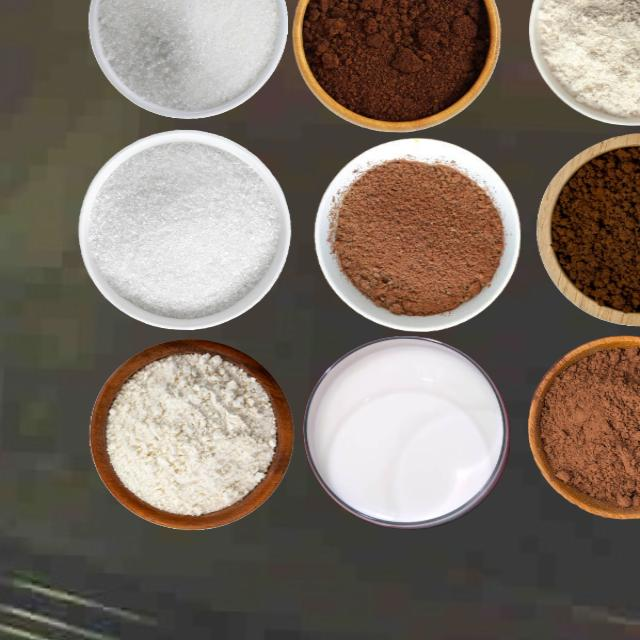Cocoa: (328, 156, 504, 316), (523, 333, 640, 520)
Coffee: (300, 0, 490, 122), (549, 144, 639, 313)
Flour: (105, 351, 277, 516), (536, 0, 639, 117)
Sugar: (85, 140, 280, 318), (94, 0, 281, 111)
